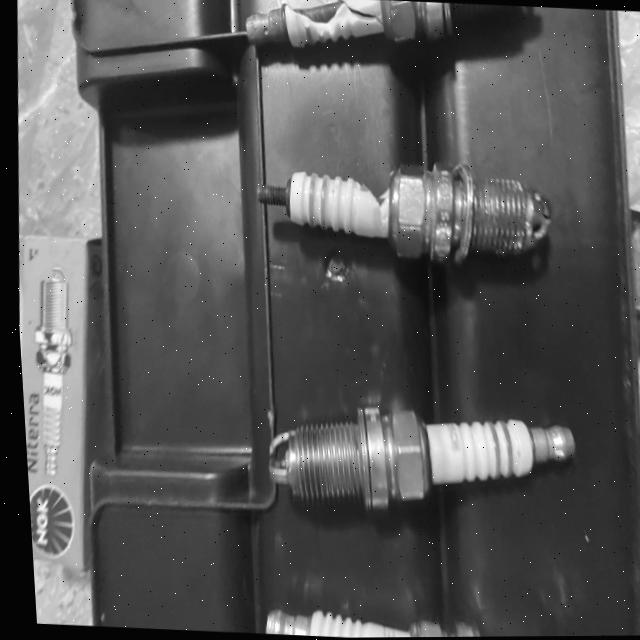damaged_spark-plug: (238, 145, 555, 275), (231, 0, 456, 64)
spark-plug: (249, 385, 581, 534)
